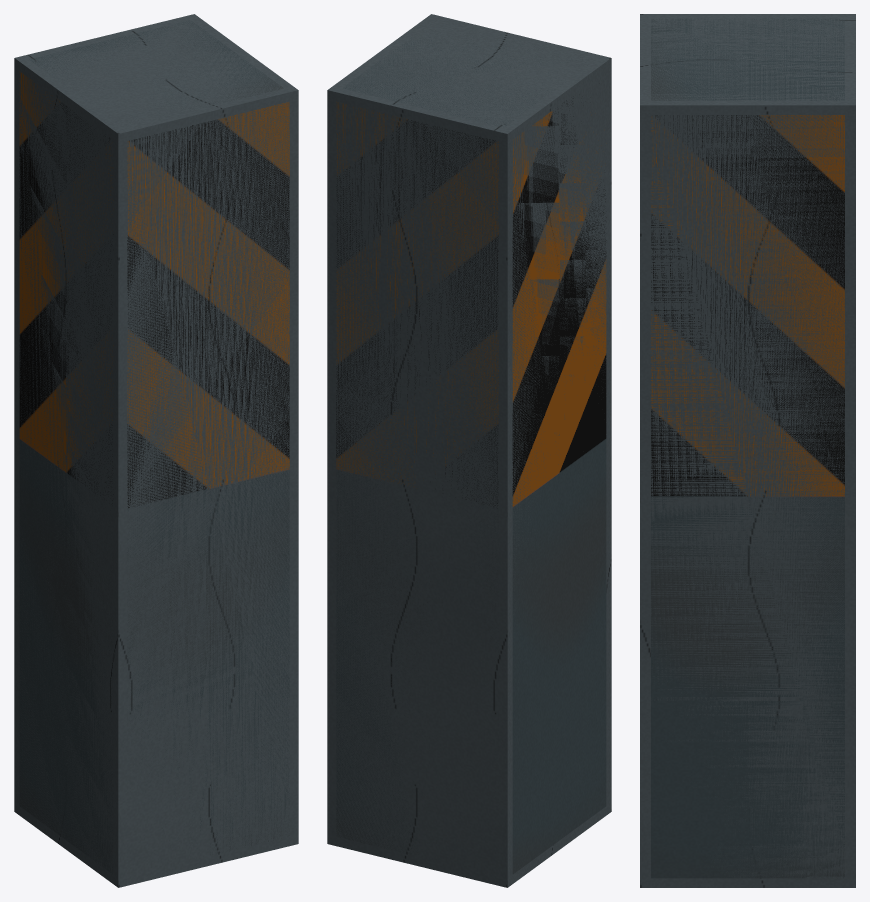
File: Platform_Support.fbx
3 views of the same model, side by side, from view 1: azimuth 30°, elevation 25°; view 2: azimuth 150°, elevation 25°; view 3: azimuth 270°, elevation 25° (orthographic). The views are drawn at different scales.
Parts seen in each view (by area): view 1: COL_Foundry_Platform_Support_00_Both, ENV_Foundry_Platform_Support_LOD0; view 2: COL_Foundry_Platform_Support_00_Both, ENV_Foundry_Platform_Support_LOD0; view 3: COL_Foundry_Platform_Support_00_Both, ENV_Foundry_Platform_Support_LOD0.
Part boxes in pixels (x1=…): COL_Foundry_Platform_Support_00_Both: x1=14, y1=14, x2=298, y2=887; ENV_Foundry_Platform_Support_LOD0: x1=19, y1=20, x2=289, y2=874; COL_Foundry_Platform_Support_00_Both: x1=327, y1=14, x2=611, y2=887; ENV_Foundry_Platform_Support_LOD0: x1=336, y1=30, x2=606, y2=874; COL_Foundry_Platform_Support_00_Both: x1=640, y1=14, x2=855, y2=887; ENV_Foundry_Platform_Support_LOD0: x1=651, y1=18, x2=844, y2=878.
Size of what is drawn, in the model's own units: 0.5 by 2 by 0.5.
